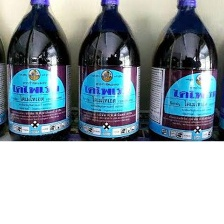insecticide: (147, 0, 220, 148), (2, 0, 75, 146), (75, 0, 143, 150)
